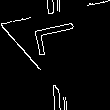L_E: (35, 24, 89, 65)
